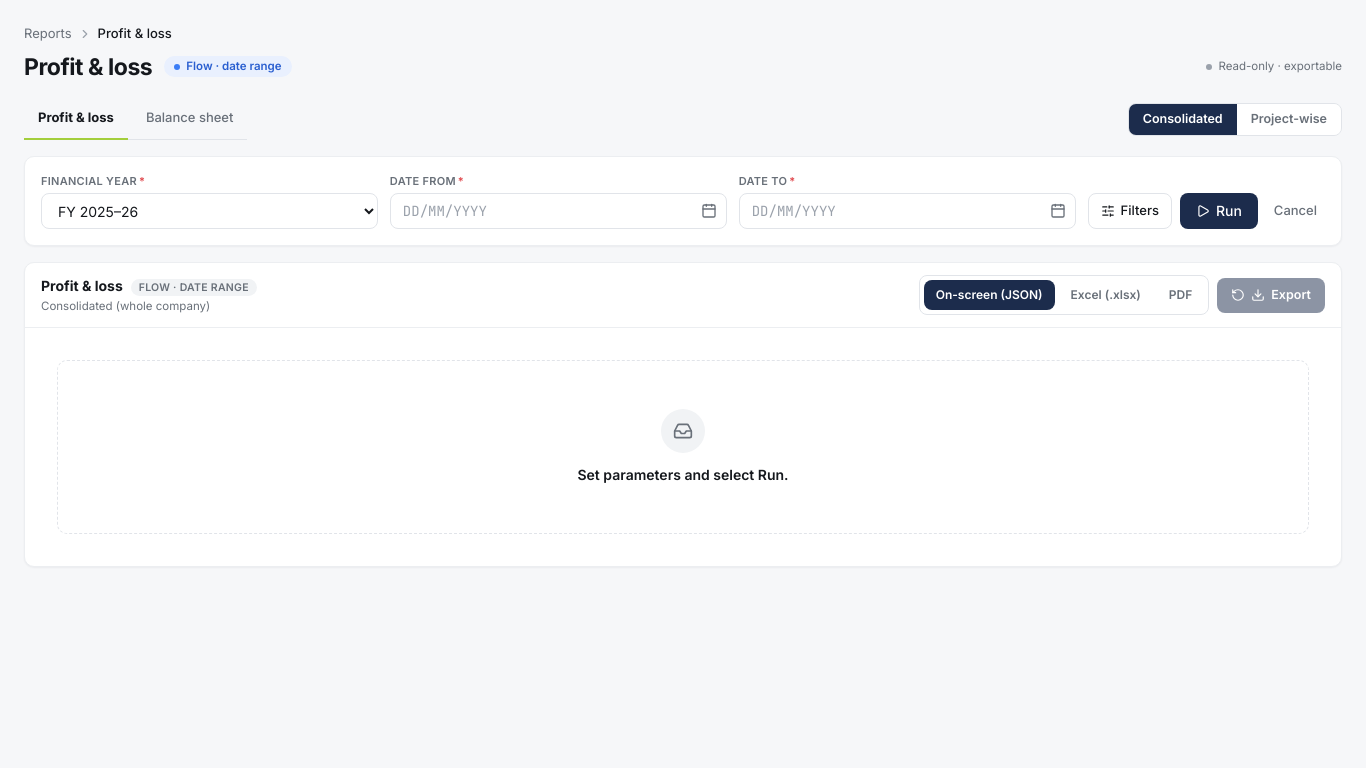
Test: Financial statements — Balance sheet body (FR-RPT-014) › Project-wise BS shows the caveat banner + 'Partial' footer
The image size is (1366, 768).
Click the tab with test id "statement-tab-BS" at (190,120), box x1=132 y1=100 x2=247 y2=140
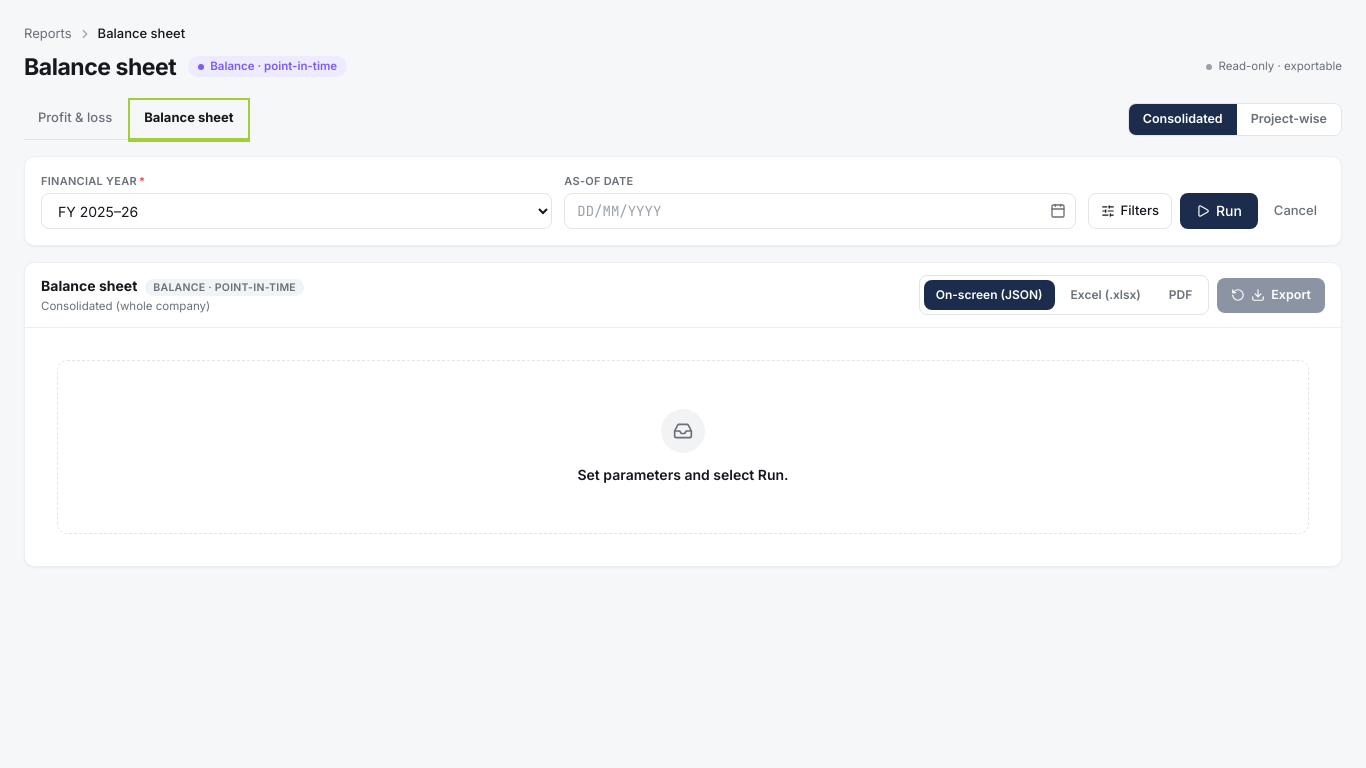
Click the radio button with test id "scope-PROJECT_WISE" at (1289,120), box x1=1237 y1=104 x2=1341 y2=135
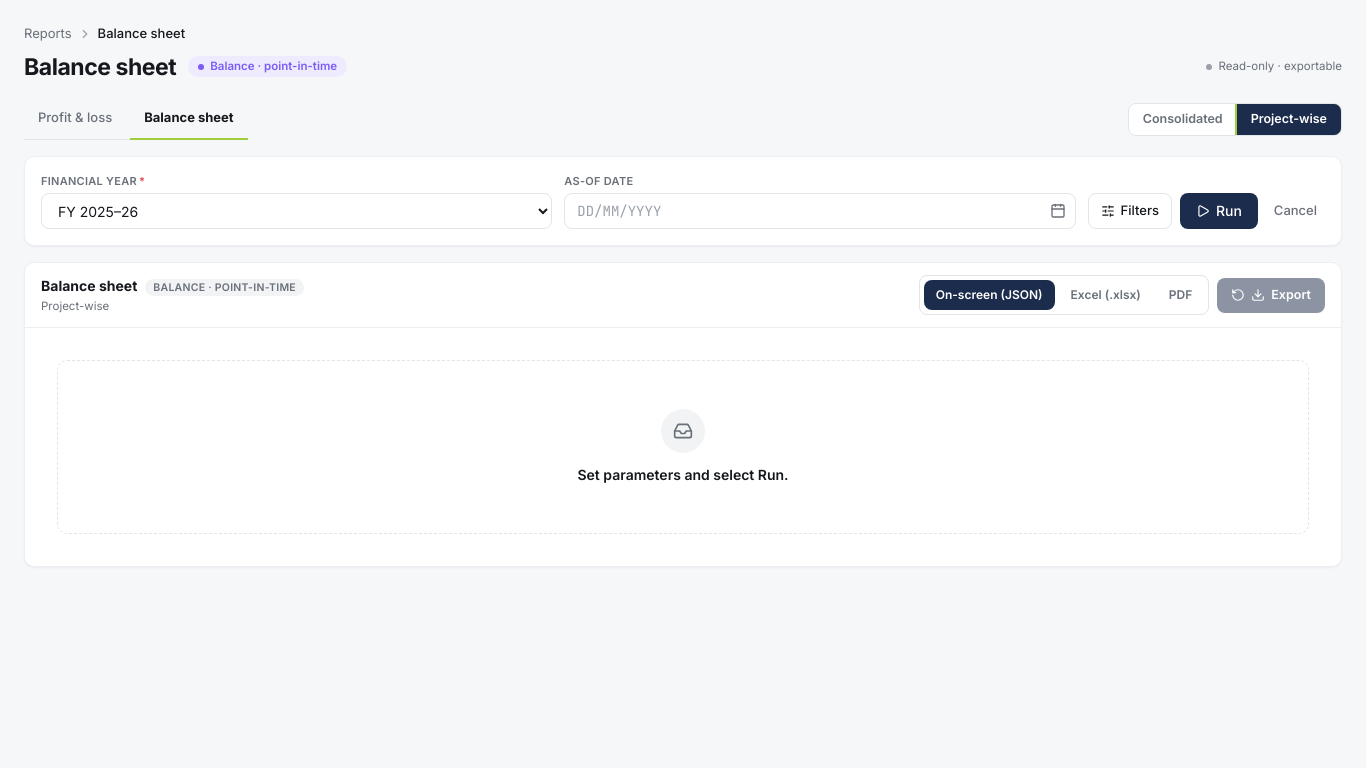
Click the button with test id "report-filters-toggle" at (1130,211), box x1=1088 y1=193 x2=1172 y2=229
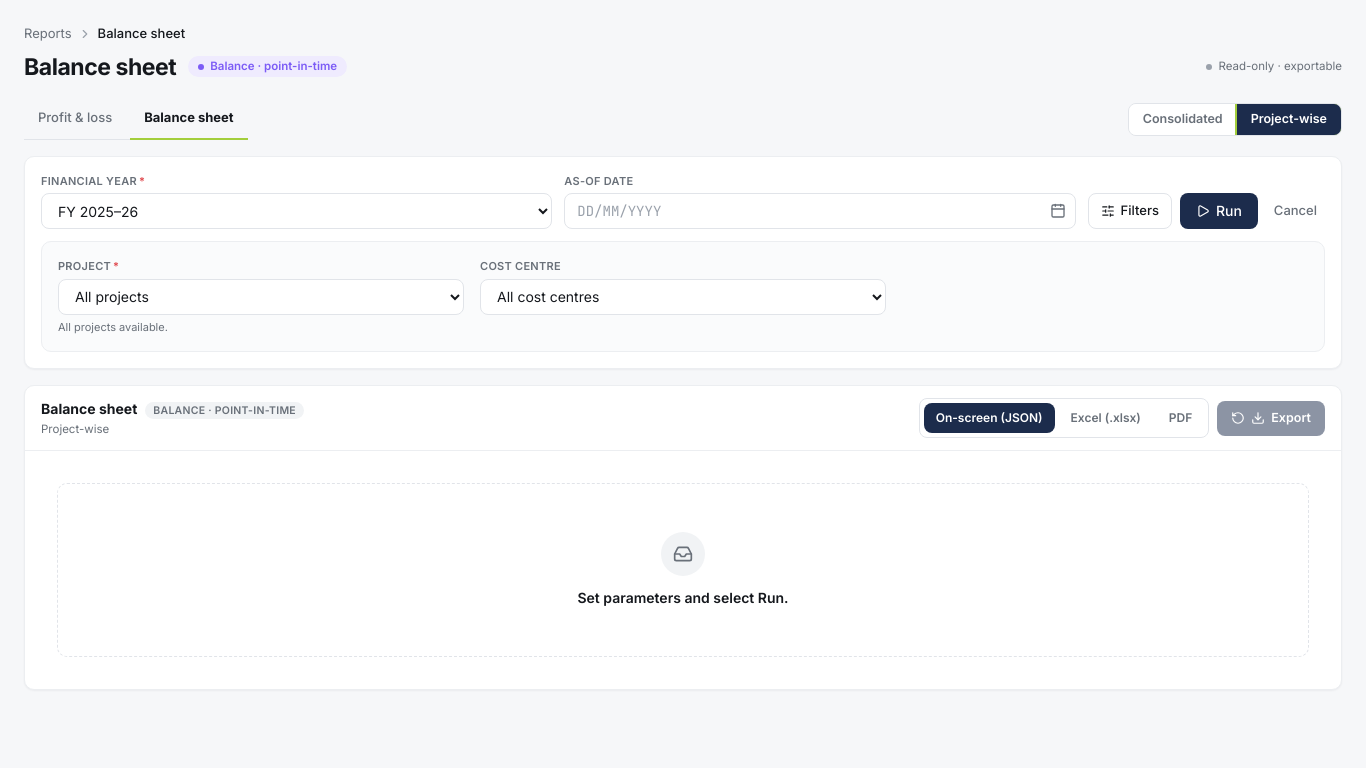
Result: the dropdown with test id "param-project" is shown
Select "P01 · Bridge-04" in the dropdown with test id "param-project" at (261,296), box x1=58 y1=278 x2=464 y2=314
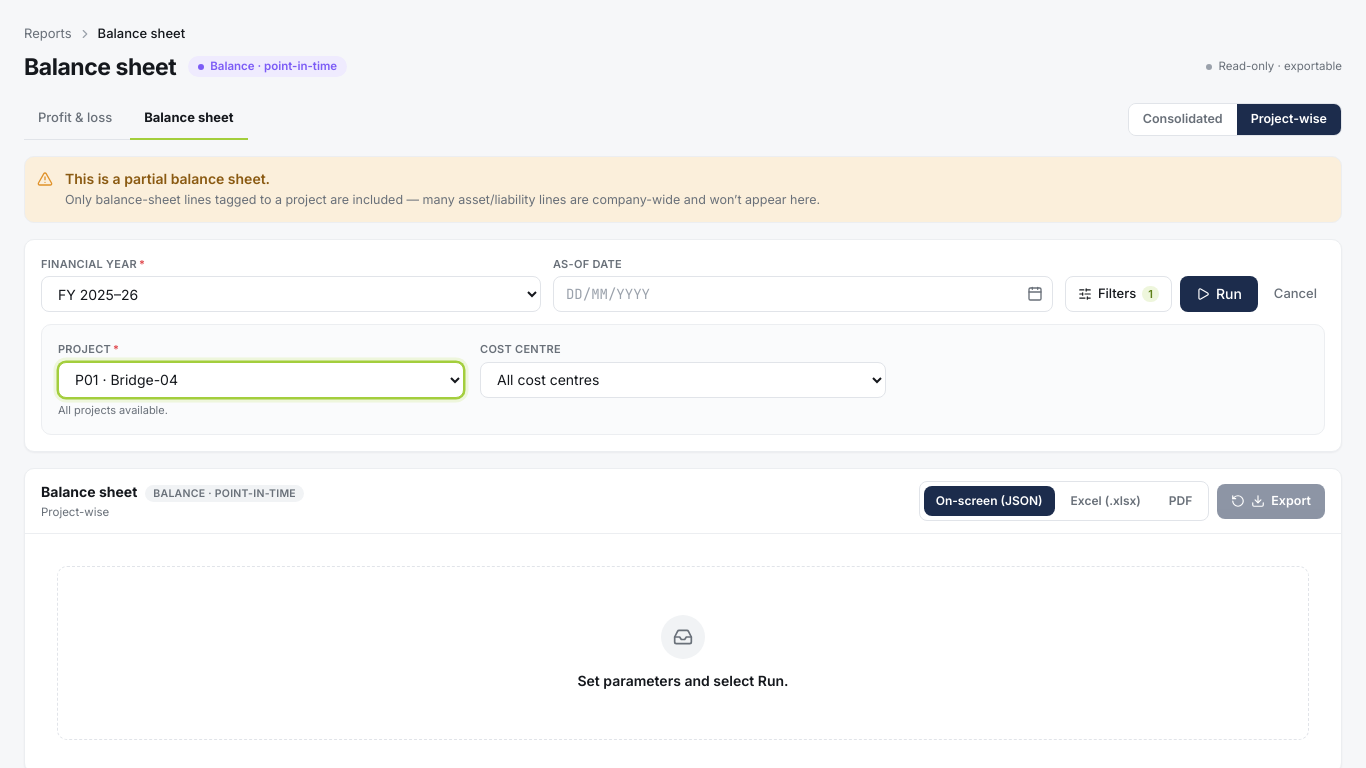
Type "30/06/2026" into the field at (803,294), box x1=553 y1=276 x2=1053 y2=312
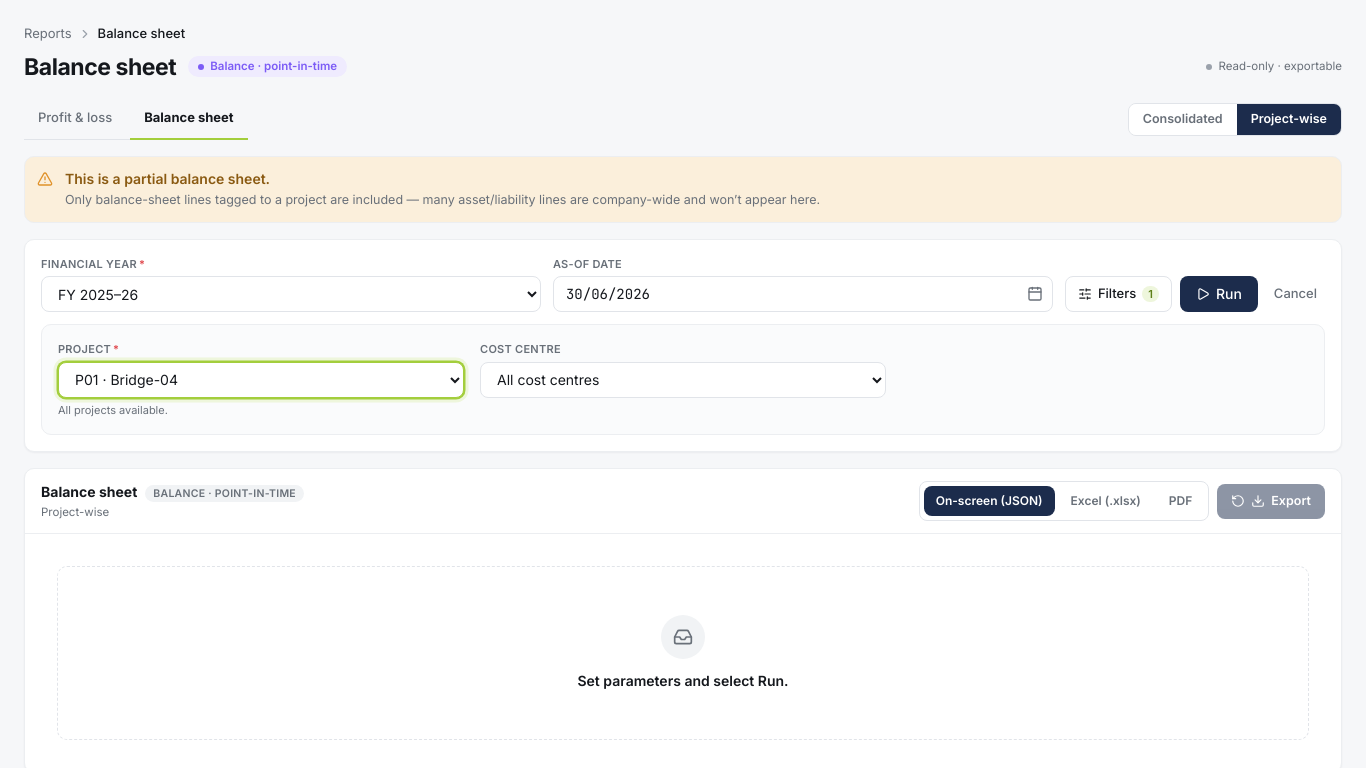
Click the button with test id "report-run" at (1219,294), box x1=1180 y1=276 x2=1258 y2=312
(page scrolled)
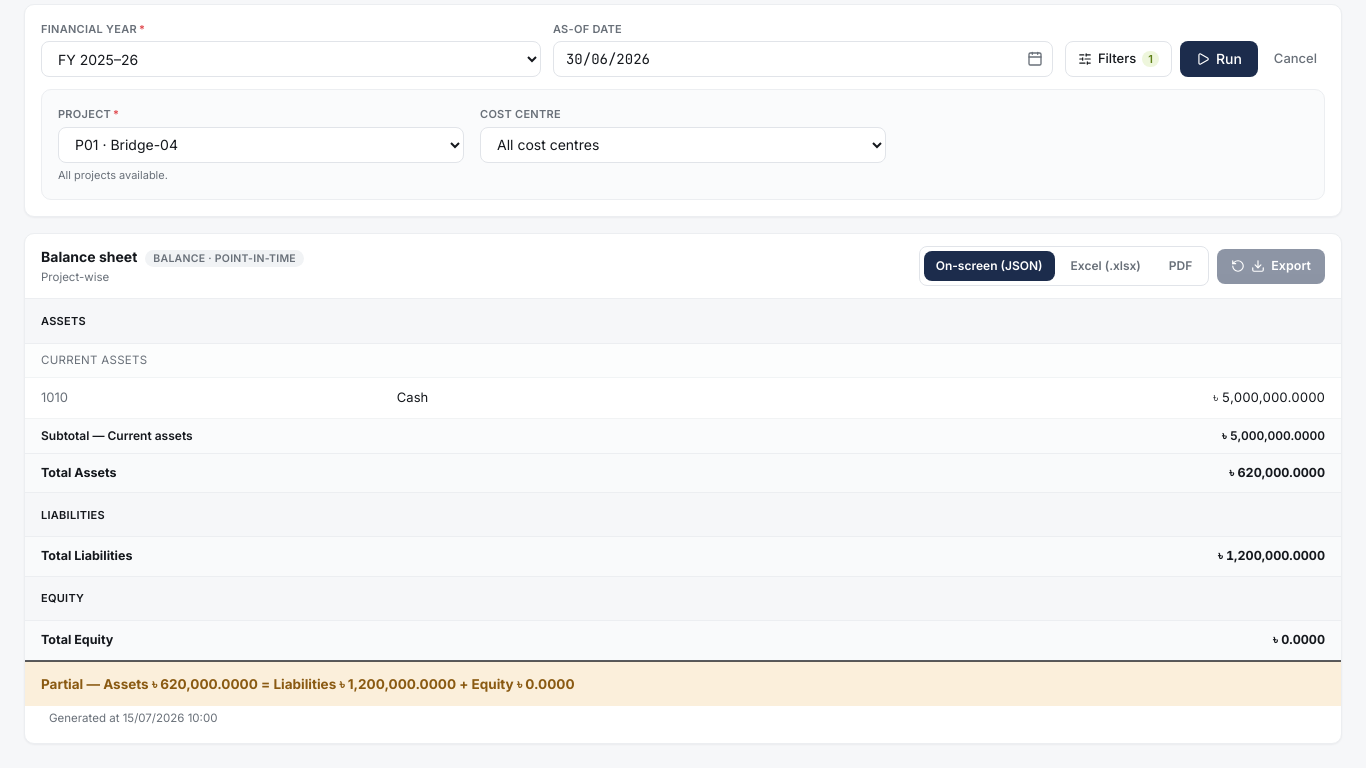
Result: the element with test id "bs-statement" is shown at x1=25 y1=299 x2=1341 y2=743
